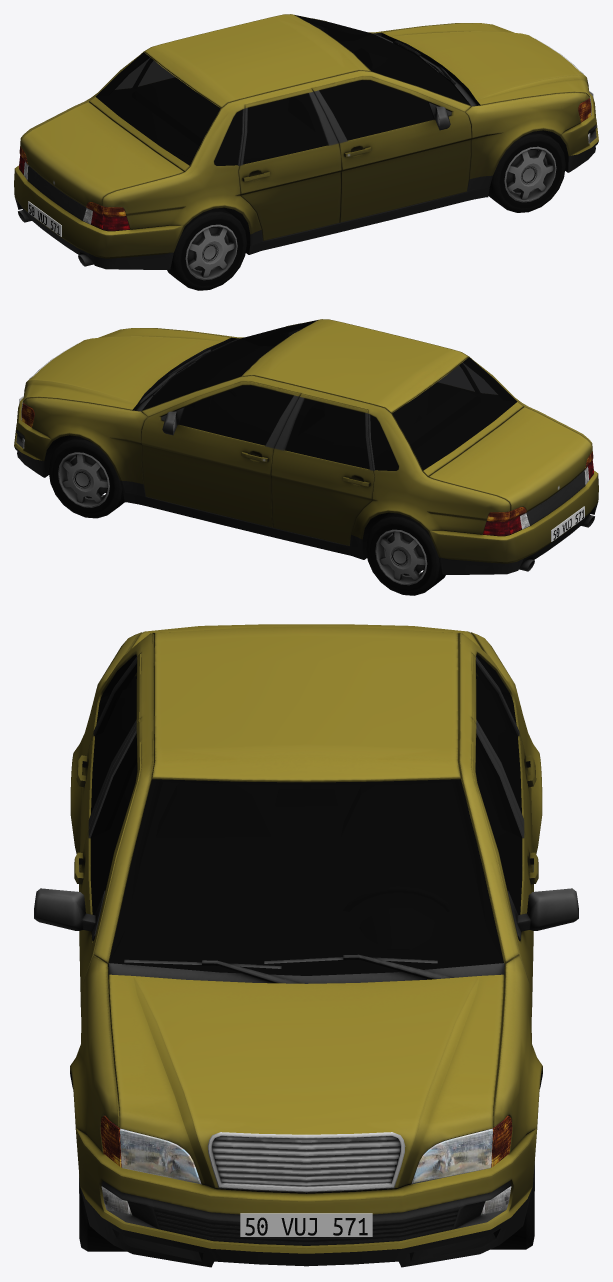
File: CarPlated5704.dae
3 views of the same model, one above another, from view 1: azimuth 30°, elevation 25°; view 2: azimuth 150°, elevation 25°; view 3: azimuth 270°, elevation 25° (orthographic). The views are drawn at different scales.
Visible parts, largest first — view 1: CarPlated5704; view 2: CarPlated5704; view 3: CarPlated5704.
Boxes of the visible parts, bbox=[...] form: CarPlated5704: bbox=[14, 14, 598, 290]; CarPlated5704: bbox=[14, 319, 598, 595]; CarPlated5704: bbox=[34, 624, 578, 1267].
Size of the model in its own units: 4.39 by 1.94 by 1.34.
